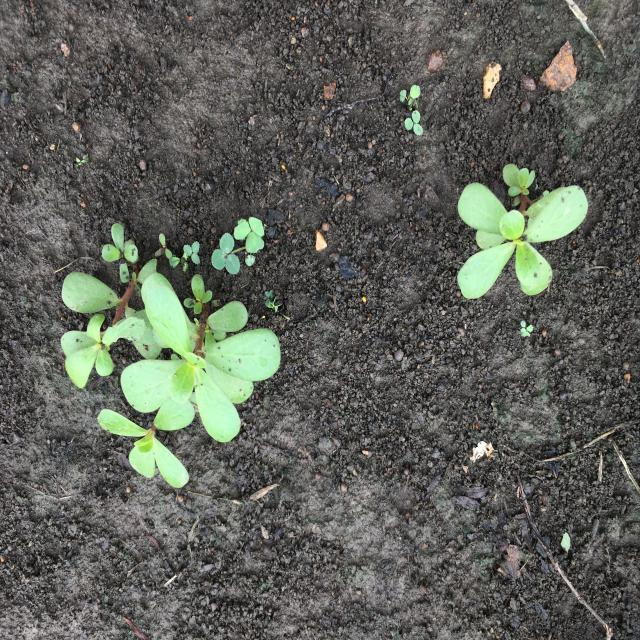Purslane: (97, 274, 281, 488), (458, 163, 588, 299), (61, 222, 162, 388)
